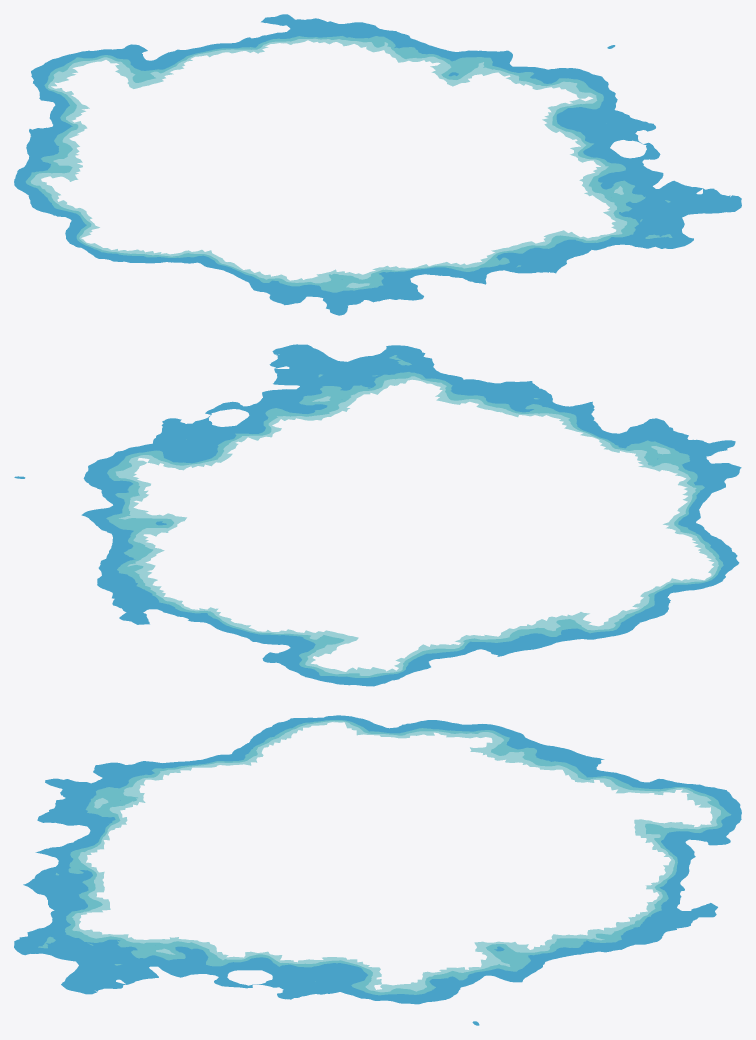
Rendered from Isl-rocky1-Water.fbx.
3 renders of one model, top to bottom at view 1: azimuth 30°, elevation 25°; view 2: azimuth 150°, elevation 25°; view 3: azimuth 270°, elevation 25°, orthographic. The views are drawn at different scales.
Parts seen in each view (by area): view 1: Isl-rocky1-Water; view 2: Isl-rocky1-Water; view 3: Isl-rocky1-Water.
Part boxes in pixels (x1,y1,x2,y2): Isl-rocky1-Water: [14, 14, 741, 315]; Isl-rocky1-Water: [14, 344, 741, 686]; Isl-rocky1-Water: [14, 715, 741, 1025].
Bounding box in the file's own units: 124 × 0 × 123.
